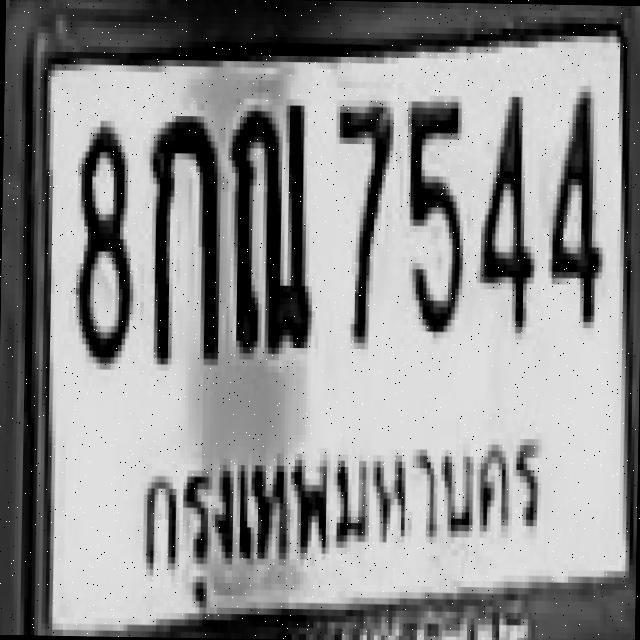10GorGai: (146, 109, 218, 358)
28NorNen: (225, 94, 311, 350)
4: (476, 90, 536, 326), (545, 85, 603, 322)
5: (400, 95, 466, 332)
7: (332, 94, 390, 342)
8: (71, 120, 132, 357)
Bangkok: (118, 393, 551, 602)
